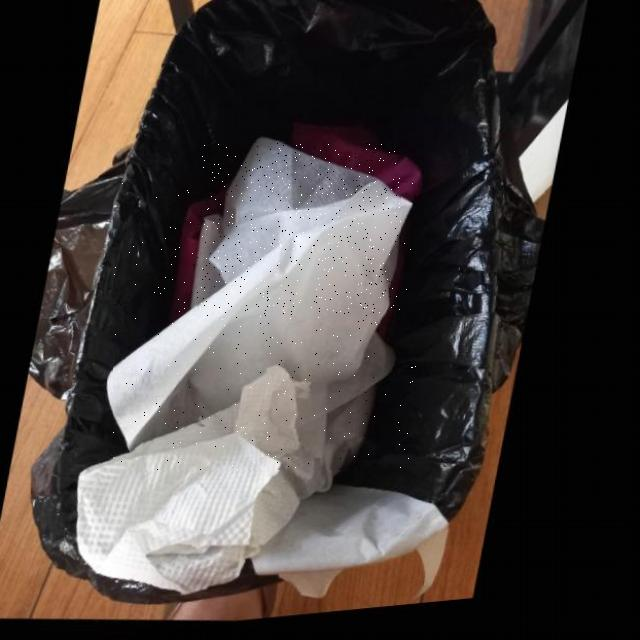paper: (113, 184, 416, 470), (198, 144, 401, 316)
